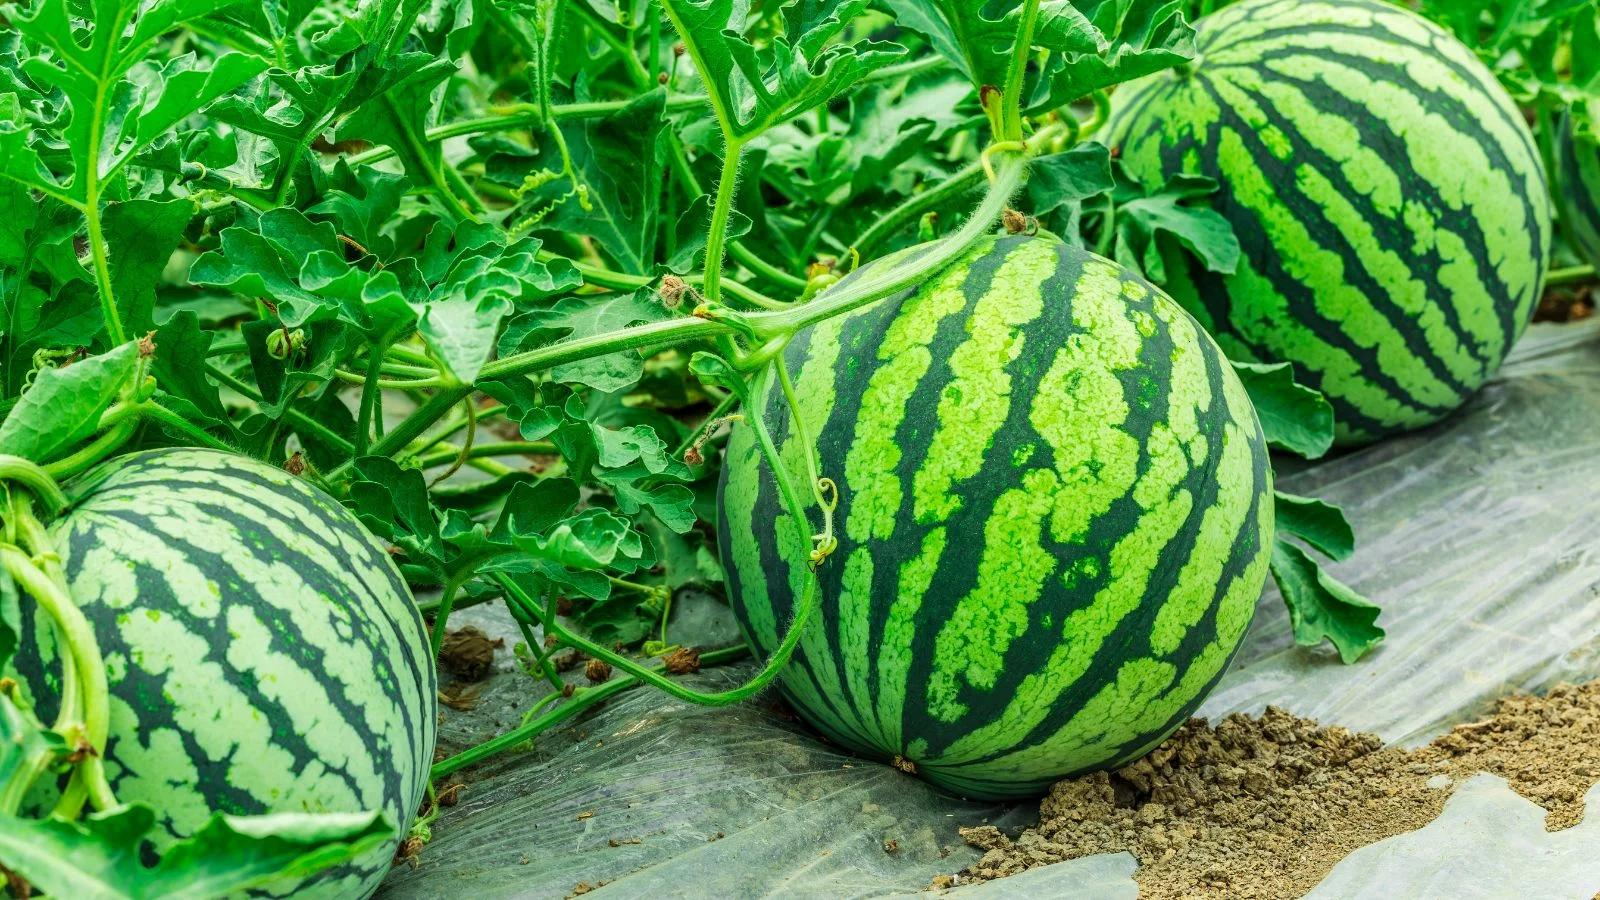watermelon: (697, 215, 1300, 814), (0, 427, 484, 900), (1060, 0, 1568, 441)
